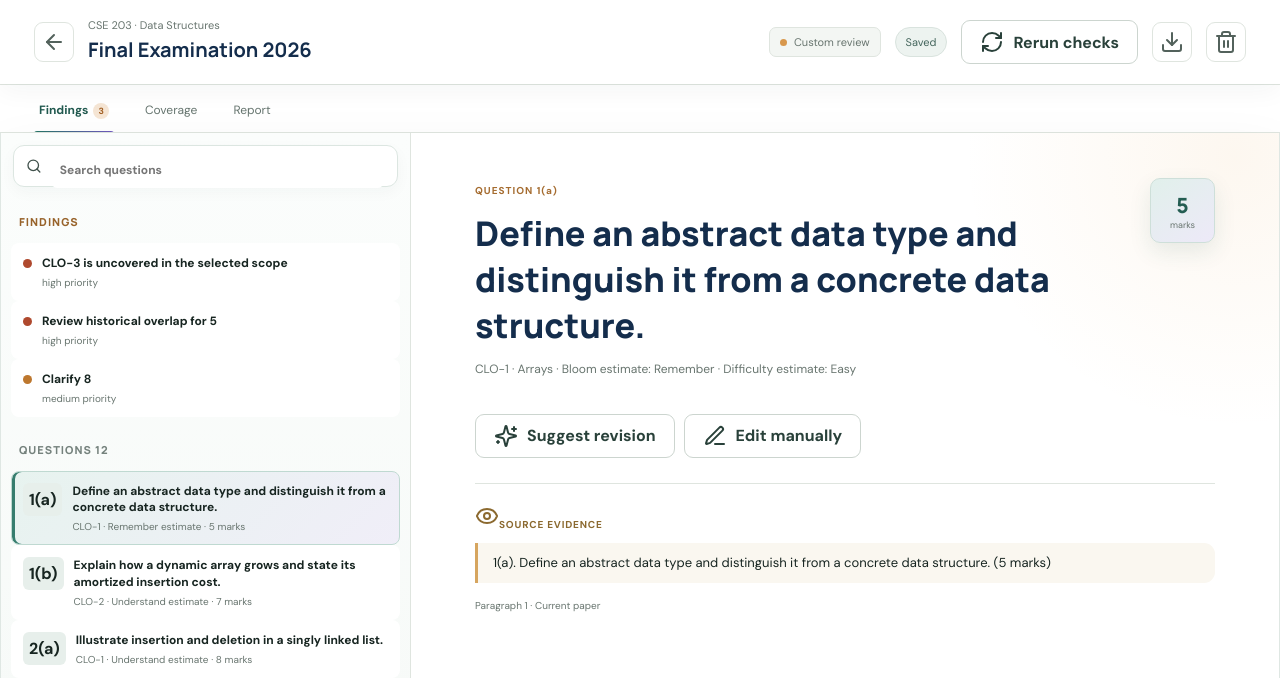
Test case: faculty interface › shows source-safe historical status
The image size is (1280, 678).
Click the button "Coverage".
click(171, 110)  # box top-left (140, 85), bottom-right (202, 134)
(page scrolled)
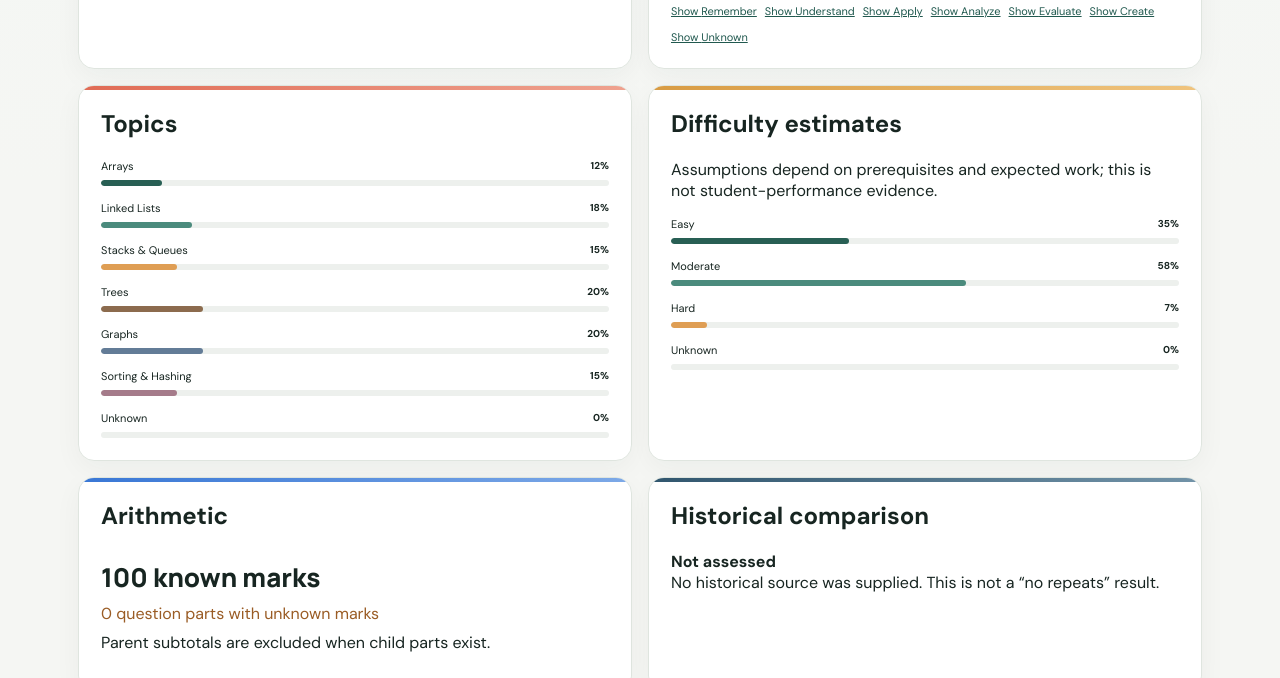
Now the text "Not assessed" is shown, box top-left (671, 551), bottom-right (776, 572)
